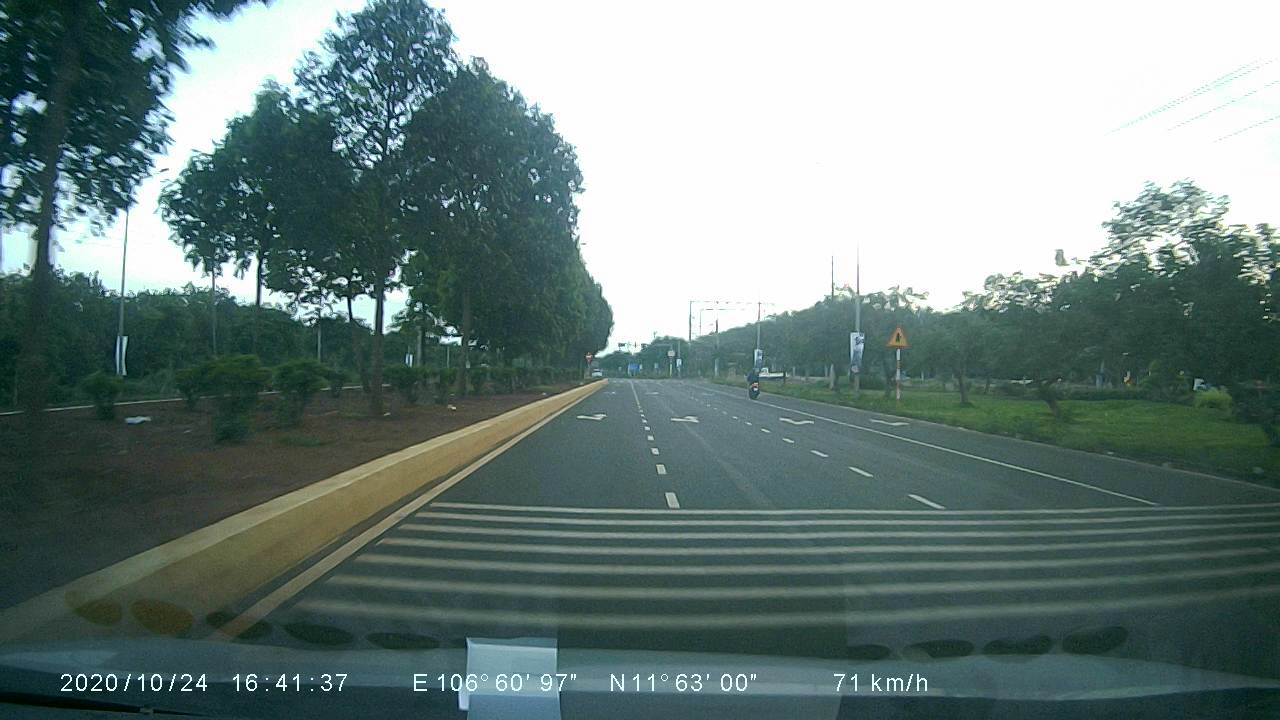Giao nhau voi duong khong uu tien: (885, 324, 909, 351)
